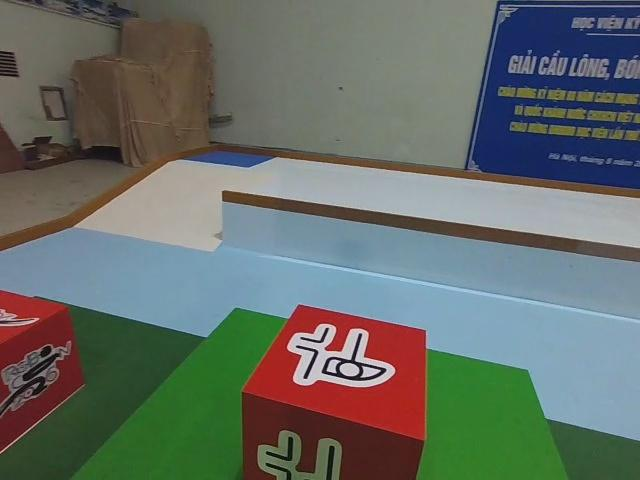R1: (0, 289, 81, 455)
R2 Real: (241, 303, 426, 480)
